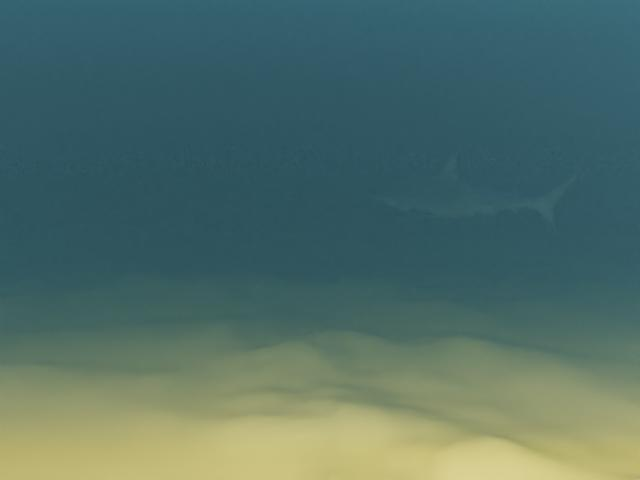Carribean Shark.001: (372, 151, 585, 231)
